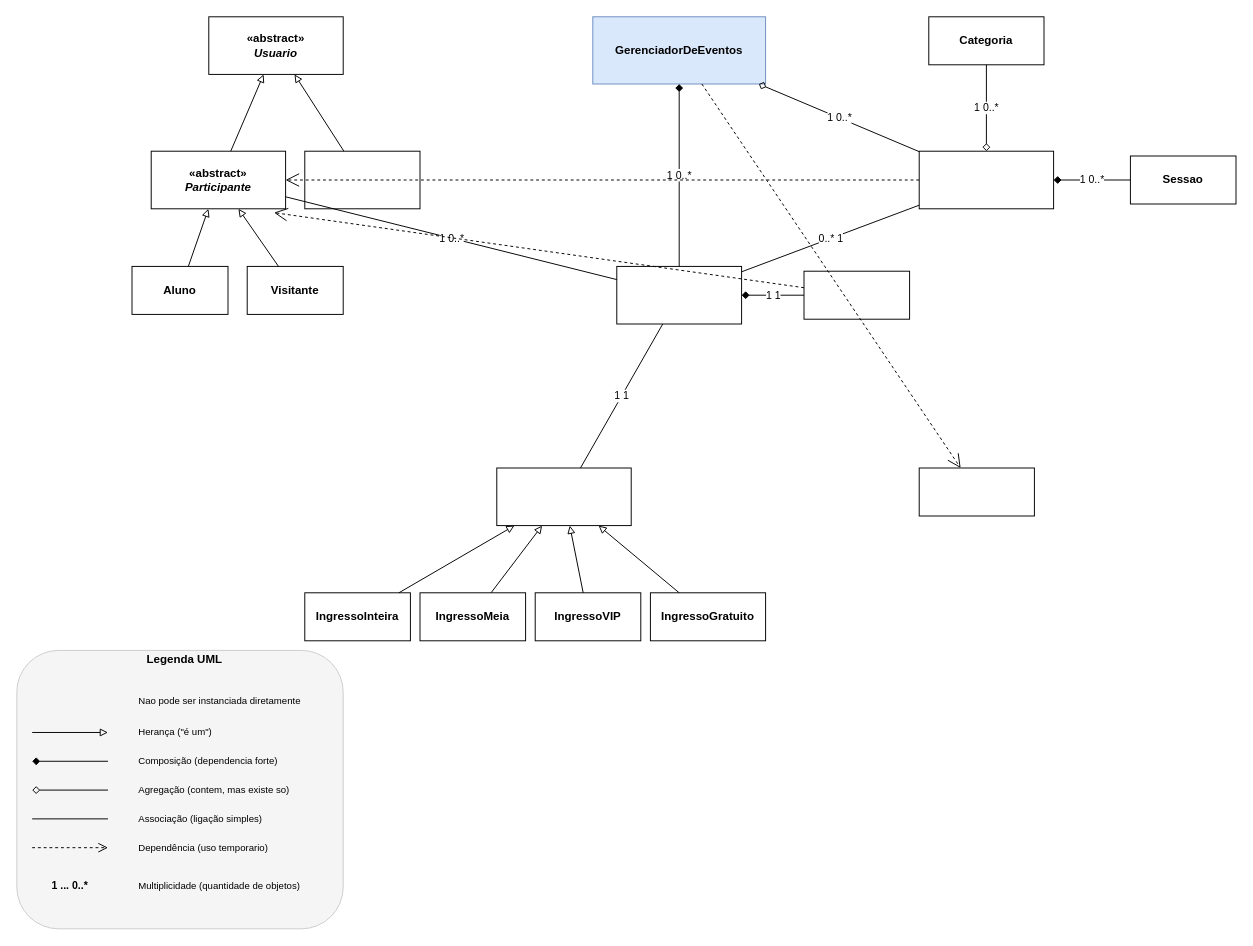
This 1253x946 diagram has some shape labels left out. Here are the shapes that lost their labels. From the top down, the centre of each, then its label:
At [362,179]: "Organizador".
At [986,179]: "Evento".
At [679,294]: "Inscricao".
At [856,294]: "Comprovante".
At [563,496]: "«abstract» Ingresso".
At [976,491]: "Pagamento".
